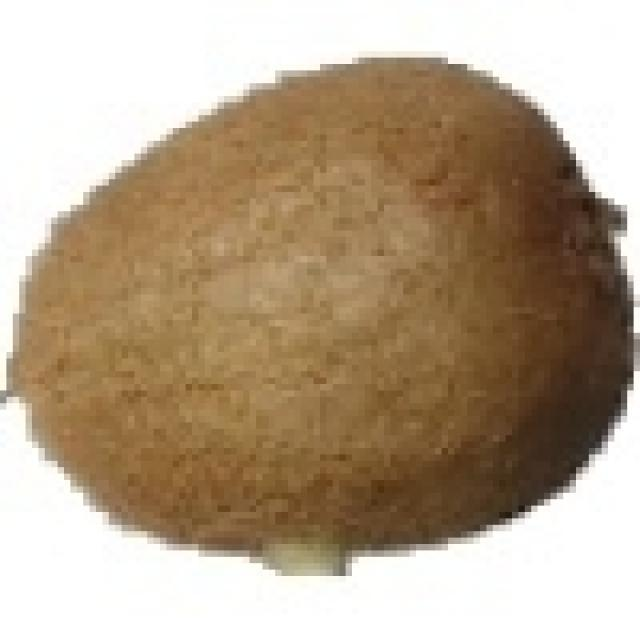kiwi: (6, 51, 621, 557)
